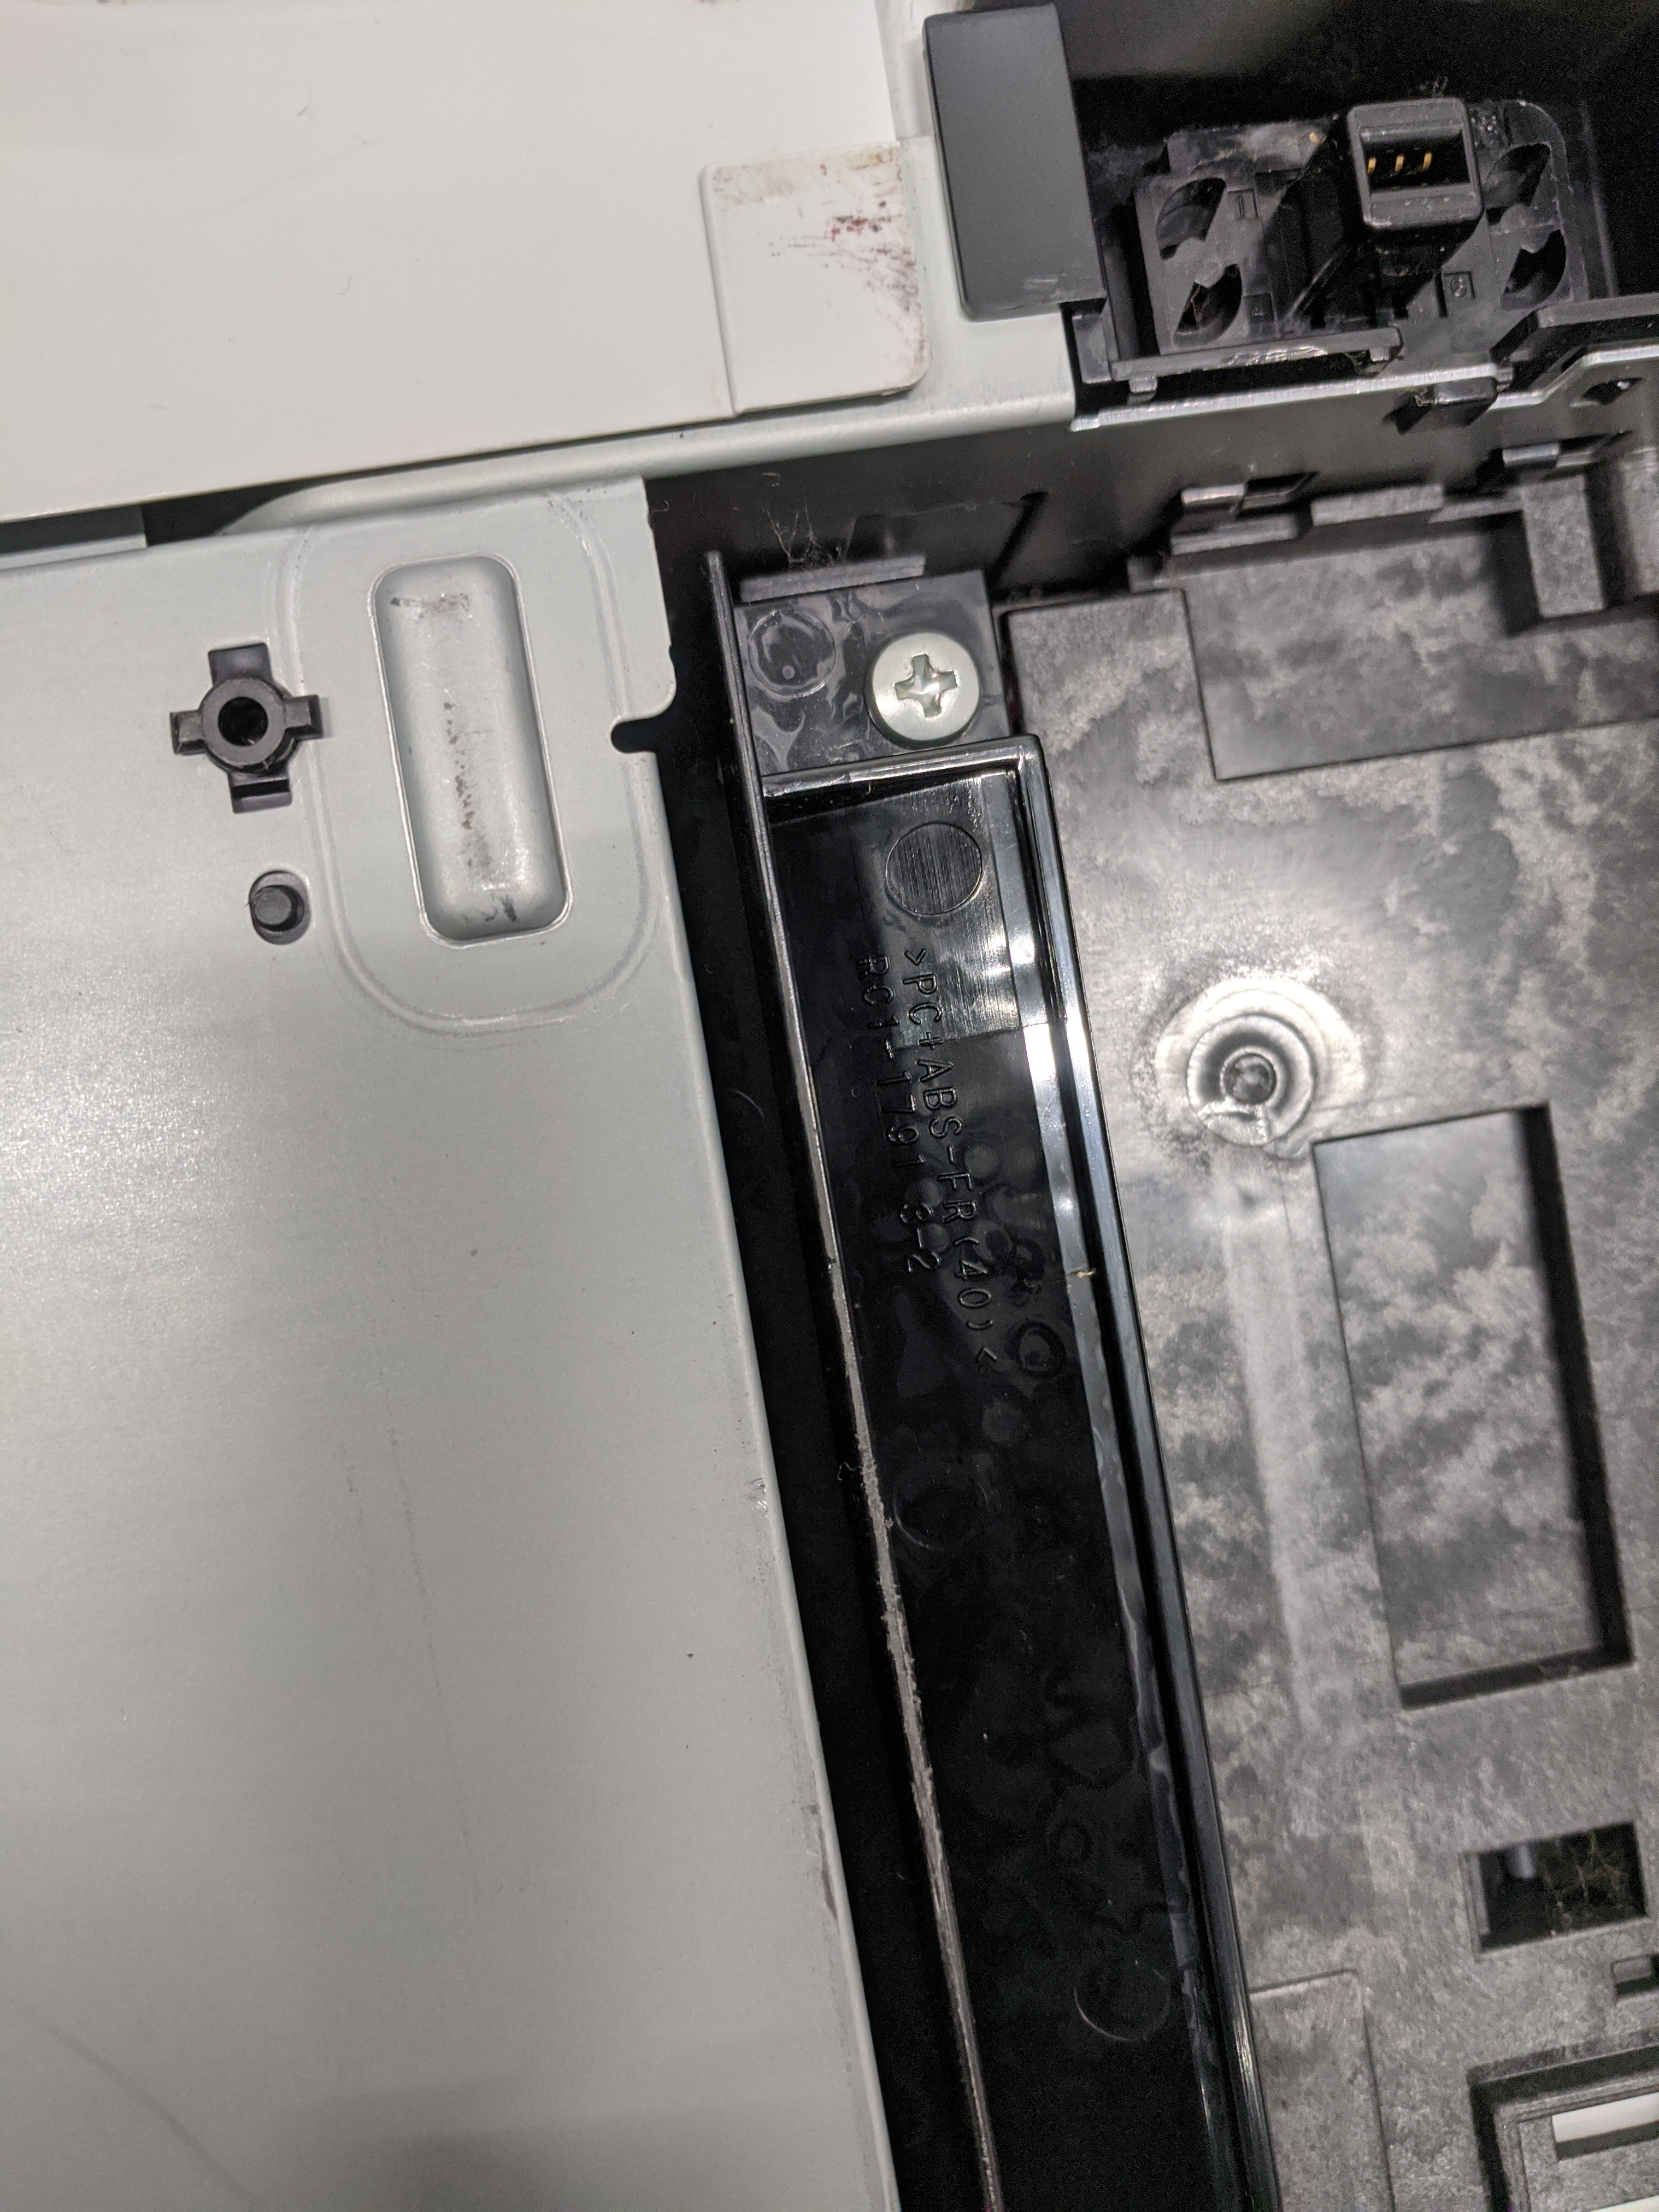cross_recessed_screw: (856, 615, 990, 754)
